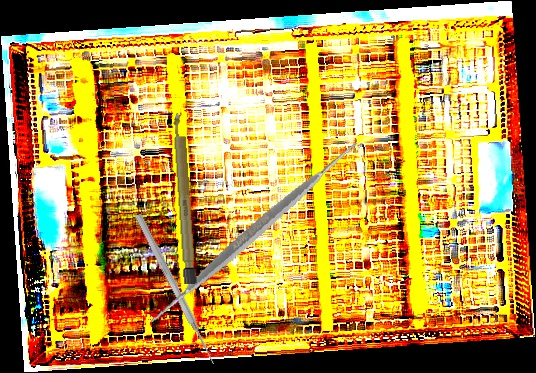Pusher: (132, 212, 219, 367)
Scalpel Handle: (172, 112, 197, 285)
Spatula Surgical: (137, 113, 372, 352)
